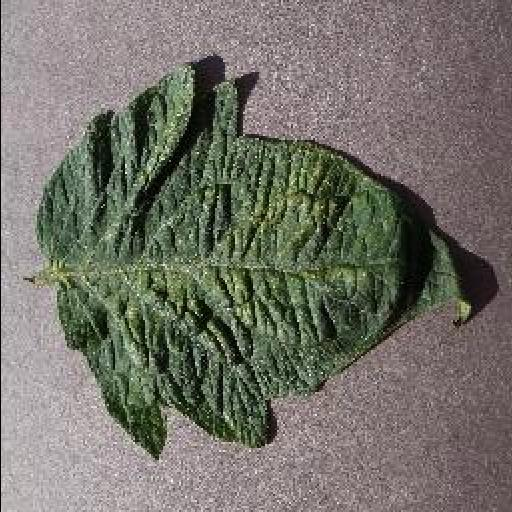disease_tomato: (34, 65, 476, 459)
